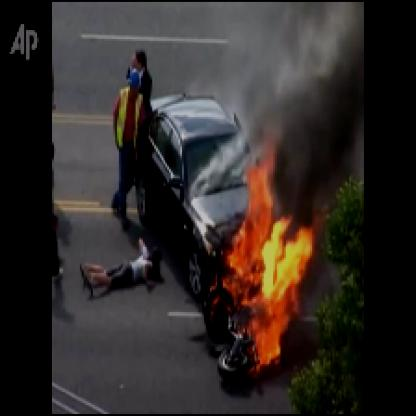Fire: (195, 143, 316, 388)
Smoke: (247, 4, 362, 176)
